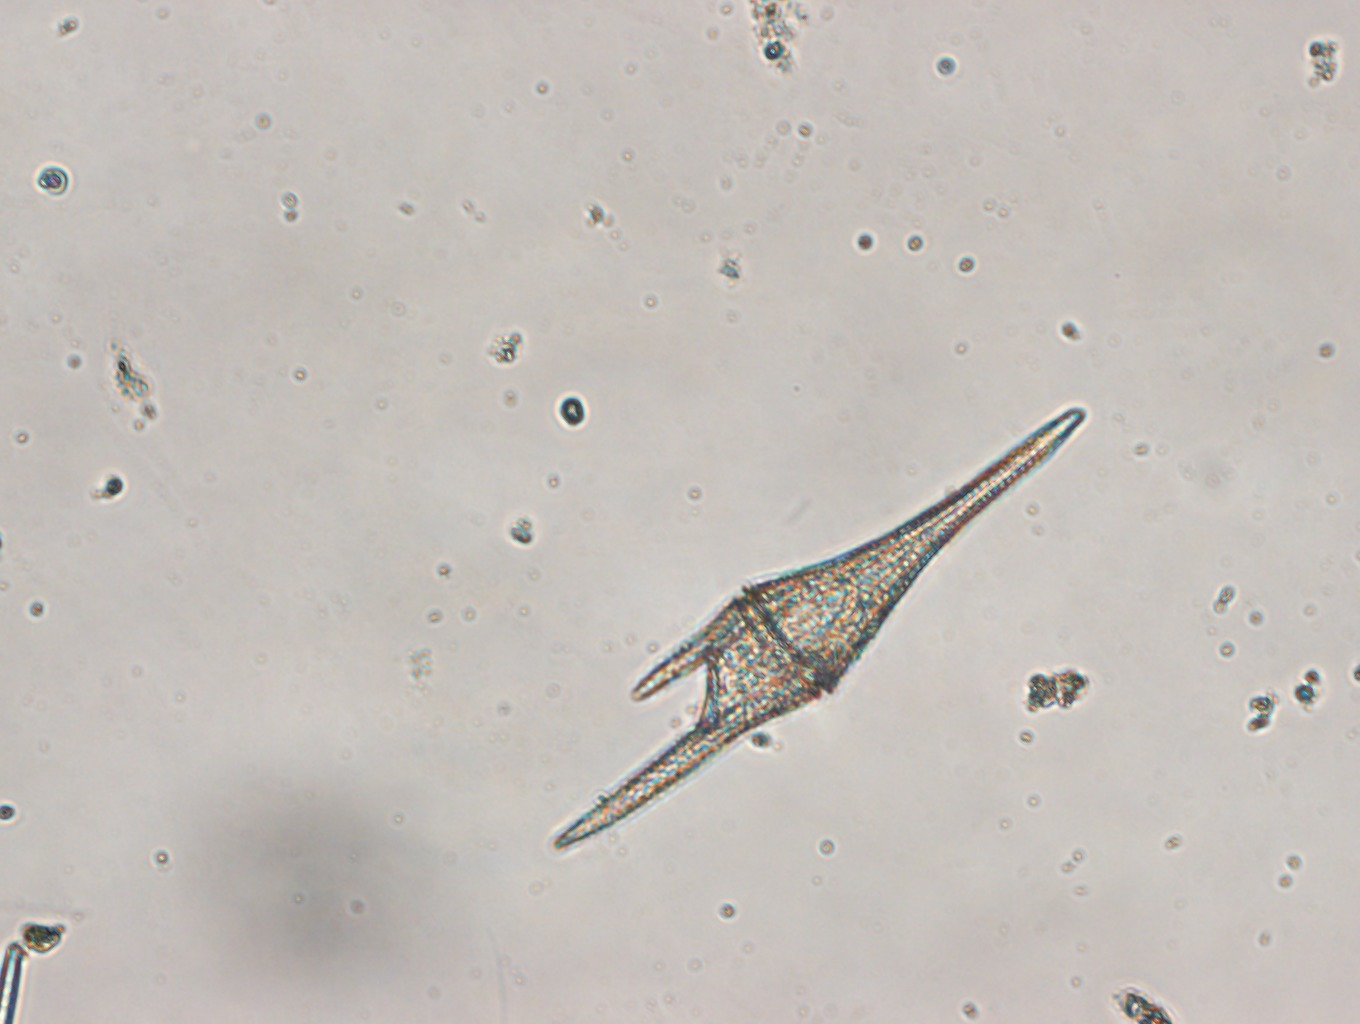ceratium furca: (548, 398, 1089, 853)
